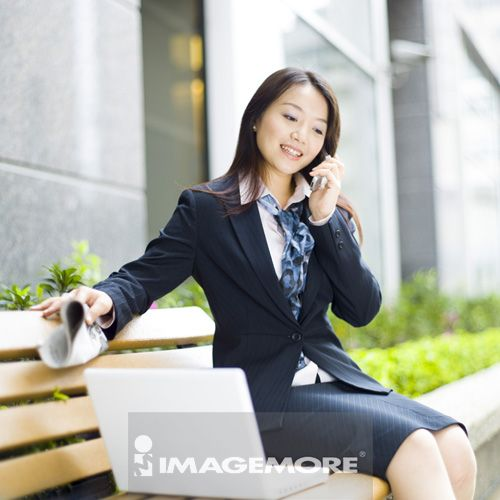talk: (266, 98, 342, 224)
